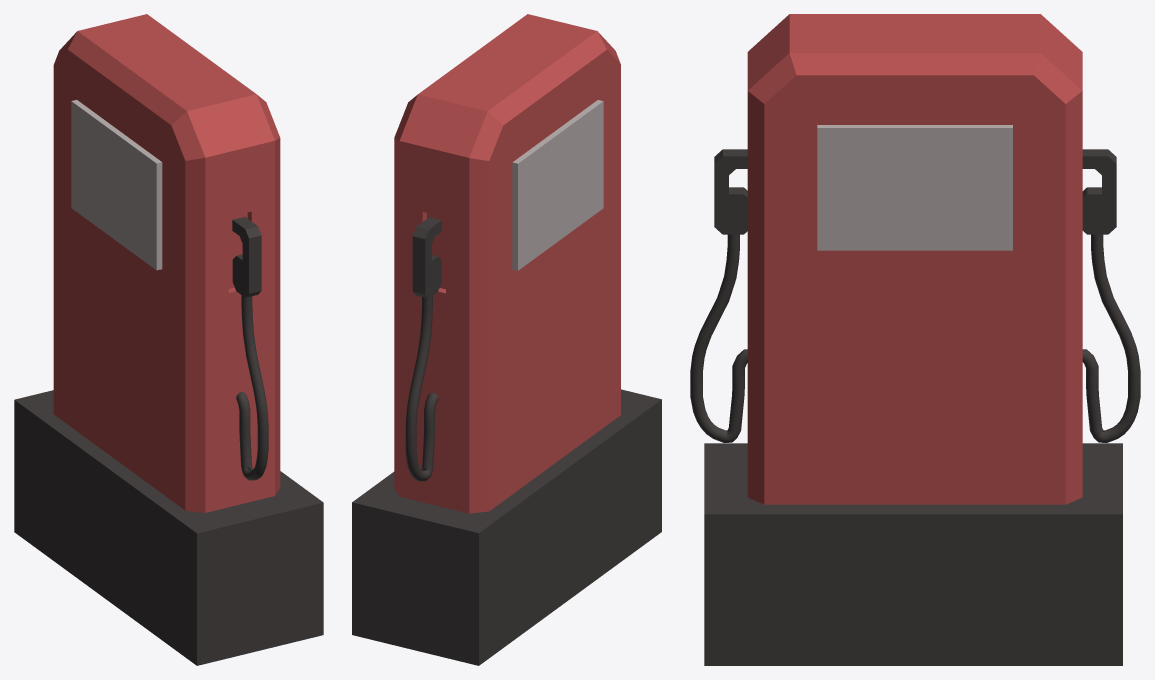
File: 04 Gas_meter.FBX
3 renders of one model, left to right at view 1: azimuth 30°, elevation 25°; view 2: azimuth 150°, elevation 25°; view 3: azimuth 270°, elevation 25°, orthographic. The views are drawn at different scales.
Parts seen in each view (by area): view 1: Gas_meter; view 2: Gas_meter; view 3: Gas_meter.
Part boxes in pixels (x1,y1,x2,y2): Gas_meter: (14,14,323,665); Gas_meter: (352,14,661,665); Gas_meter: (690,14,1140,665).
Bounding box in the file's own units: 200 × 786 × 538.
